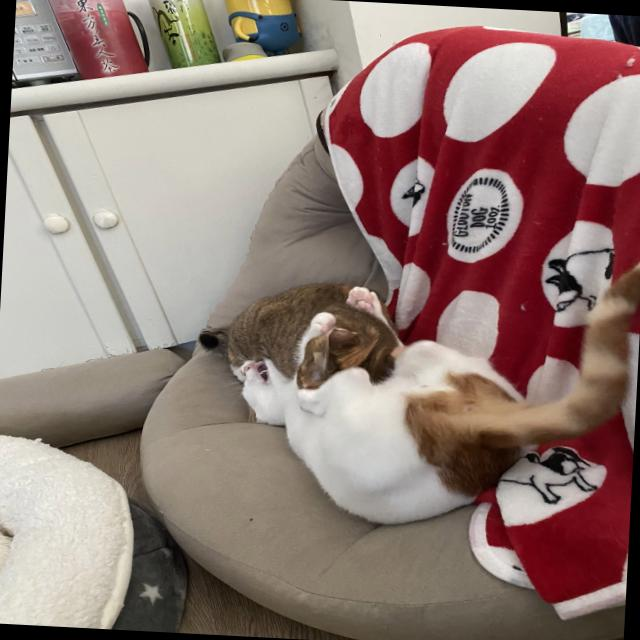cat1: (220, 356, 638, 544)
cat2: (190, 272, 404, 391)
